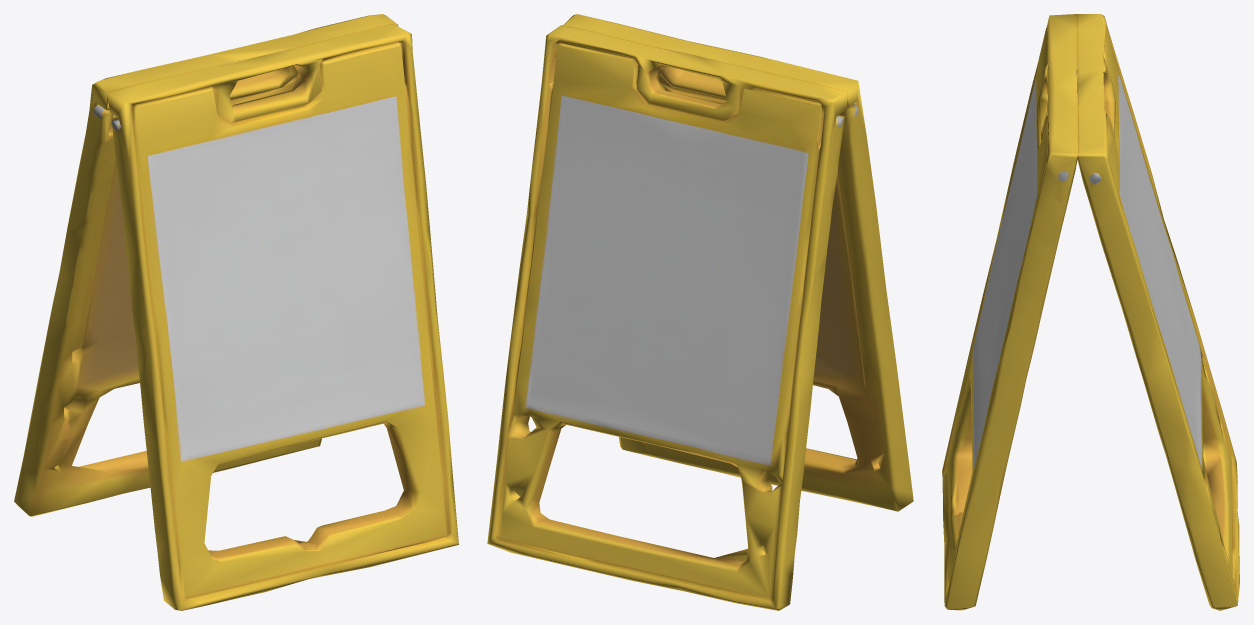
The model's file is yellow_sign_board_3d_model.fbx.
The picture shows the model from 3 angles, left to right: view 1: azimuth 30°, elevation 25°; view 2: azimuth 150°, elevation 25°; view 3: azimuth 270°, elevation 25°; orthographic projection. The views are drawn at different scales.
Visible parts, largest first — view 1: tripo_node_4d213c48; view 2: tripo_node_4d213c48; view 3: tripo_node_4d213c48.
Part boxes in pixels (<box>): tripo_node_4d213c48: <box>14,14,458,610</box>; tripo_node_4d213c48: <box>487,14,913,610</box>; tripo_node_4d213c48: <box>942,14,1239,610</box>.
Size of the model in its own units: 0.6594 by 0.9798 by 0.5694.
